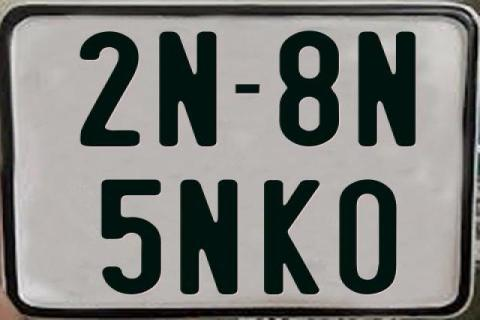0: (279, 30, 345, 150), (77, 29, 140, 149), (336, 177, 400, 295), (100, 178, 160, 296)
K: (264, 178, 324, 296)
N: (356, 31, 416, 151), (179, 177, 239, 297), (157, 31, 216, 148)
